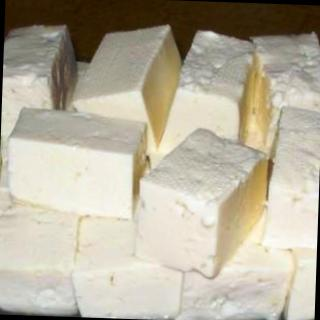Tahu: (126, 121, 281, 290), (1, 101, 152, 231), (69, 12, 181, 146), (164, 14, 261, 162)
